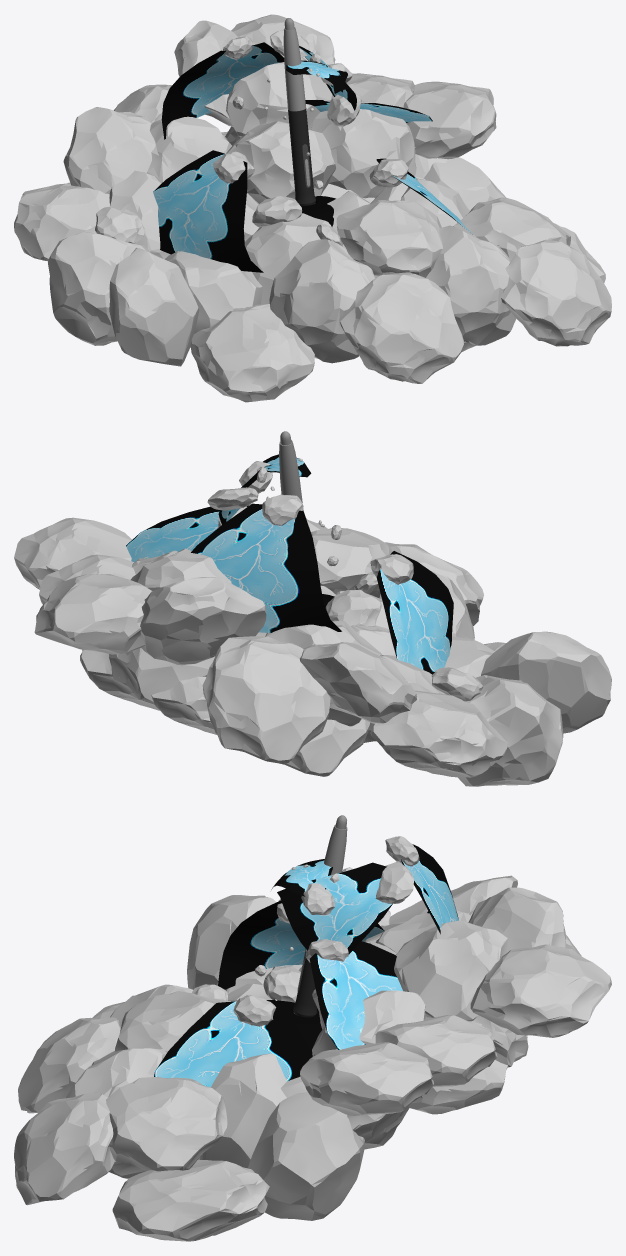
Rendered from pensword.fbx.
The picture shows the model from 3 angles, top to bottom: view 1: azimuth 30°, elevation 25°; view 2: azimuth 150°, elevation 25°; view 3: azimuth 270°, elevation 25°; orthographic projection. The views are drawn at different scales.
Parts seen in each view (by area): view 1: GeoSphere017, GeoSphere043, GeoSphere026, GeoSphere021, Plane003, GeoSphere015, GeoSphere041, GeoSphere020, GeoSphere016, GeoSphere030, GeoSphere035, GeoSphere032 (+27 smaller); view 2: GeoSphere028, Plane005, GeoSphere038, GeoSphere023, GeoSphere021, GeoSphere037, GeoSphere020, GeoSphere030, Plane003, GeoSphere035, GeoSphere016, GeoSphere033 (+19 smaller); view 3: GeoSphere040, GeoSphere045, GeoSphere037, GeoSphere042, GeoSphere043, GeoSphere035, GeoSphere036, Plane004, Plane006, GeoSphere039, Plane007, GeoSphere017 (+23 smaller).
Boxes of the visible parts, <box> form: GeoSphere017: <box>339,272,463,383</box>; GeoSphere043: <box>501,239,611,346</box>; GeoSphere026: <box>190,304,314,402</box>; GeoSphere021: <box>109,247,199,366</box>; Plane003: <box>153,150,263,272</box>; GeoSphere015: <box>269,239,375,363</box>; GeoSphere041: <box>426,225,516,345</box>; GeoSphere020: <box>48,232,149,345</box>; GeoSphere016: <box>336,200,442,277</box>; GeoSphere030: <box>63,107,155,193</box>; GeoSphere035: <box>403,81,496,159</box>; GeoSphere032: <box>311,94,416,198</box>; GeoSphere028: <box>202,636,330,763</box>; Plane005: <box>191,503,341,632</box>; GeoSphere038: <box>140,577,266,665</box>; GeoSphere023: <box>370,690,507,777</box>; GeoSphere021: <box>481,631,611,733</box>; GeoSphere037: <box>34,574,152,654</box>; GeoSphere020: <box>458,675,563,786</box>; GeoSphere030: <box>299,642,416,723</box>; Plane003: <box>376,551,453,674</box>; GeoSphere035: <box>14,517,131,589</box>; GeoSphere016: <box>311,528,392,594</box>; GeoSphere033: <box>109,648,214,703</box>; GeoSphere040: <box>247,1092,365,1220</box>; GeoSphere045: <box>112,1160,269,1241</box>; GeoSphere037: <box>470,944,611,1037</box>; GeoSphere042: <box>106,1077,227,1171</box>; GeoSphere043: <box>14,1092,115,1205</box>; GeoSphere035: <box>300,1042,433,1115</box>; GeoSphere036: <box>394,920,507,1021</box>; Plane004: <box>154,999,312,1087</box>; Plane006: <box>309,941,402,1049</box>; GeoSphere039: <box>200,1053,286,1167</box>; Plane007: <box>277,862,392,954</box>; GeoSphere017: <box>18,1017,120,1113</box>.
Bounding box in the file's own units: 354 × 200 × 340.
